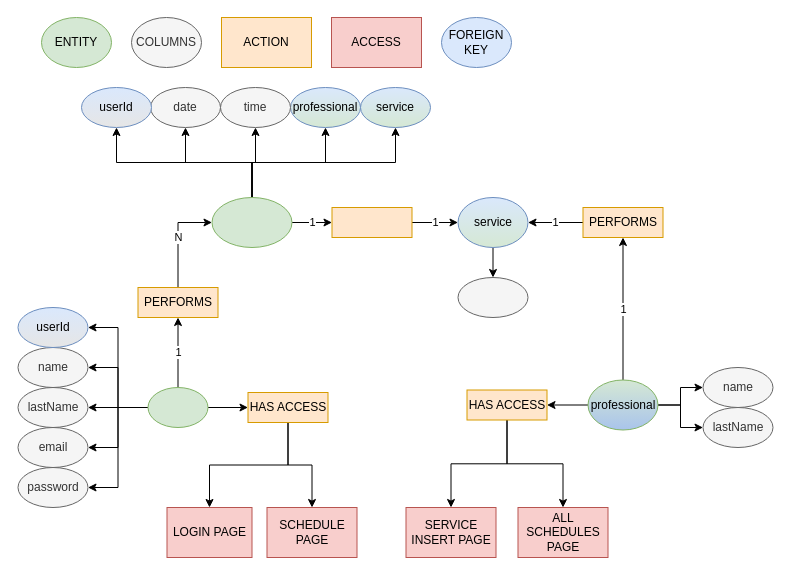
Image size: 790x575. Some labels were removed from this diagram. Here are the shapes that lost their labels. From the top down, the centre of each, then its label:
pixel 251 222: schedule
pixel 371 222: HAS
pixel 492 297: title
pixel 177 407: user
